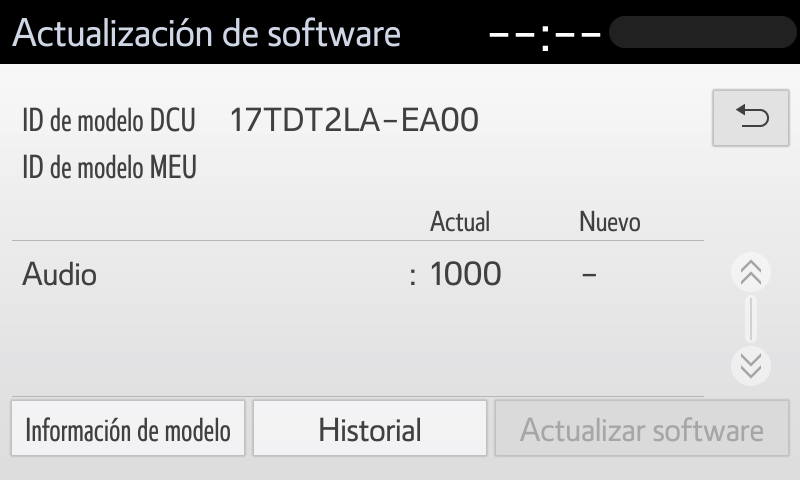touchPart: (253, 398, 489, 463), (12, 398, 246, 461), (474, 14, 795, 50), (708, 83, 791, 154)
untouchPart: (494, 400, 791, 461), (16, 13, 404, 54), (724, 344, 779, 386), (730, 253, 778, 295)
